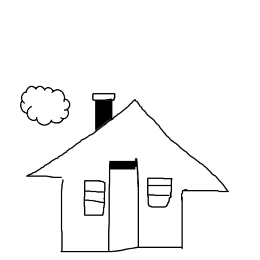bottom_placed_house: (2, 1, 260, 260)
chimney: (86, 84, 121, 136)
closed_window: (77, 176, 108, 222), (143, 173, 178, 212)
clouds: (13, 79, 72, 131)
door: (102, 150, 147, 257)
single_line_roof: (10, 63, 240, 196)
wall: (57, 157, 196, 253)
